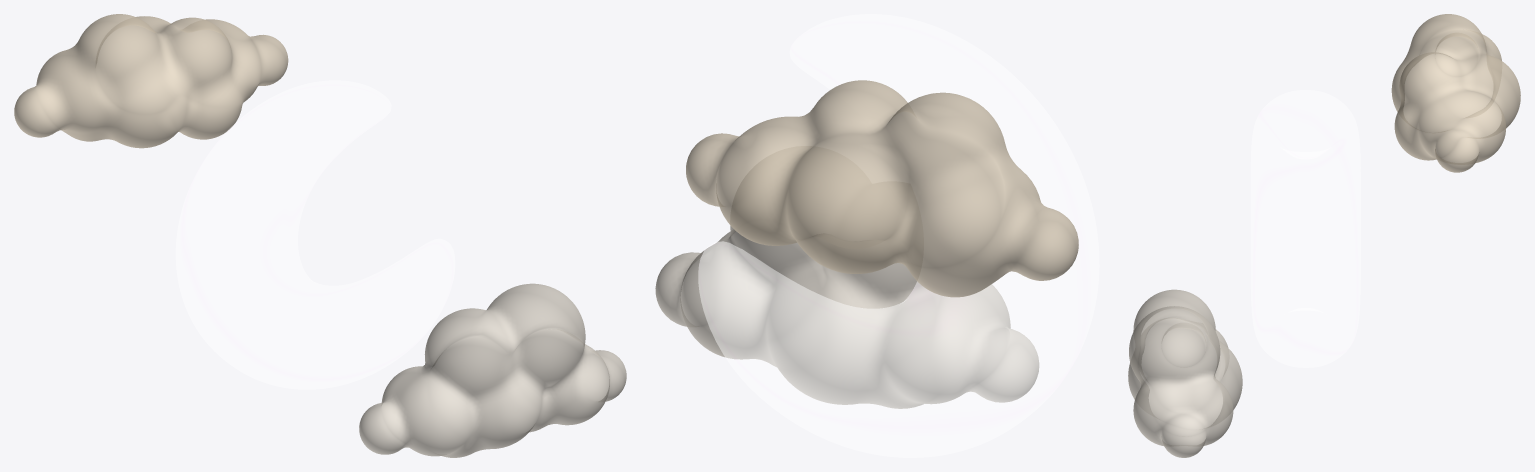
Rendered from moon.glb.
3 views of the same model, side by side, from view 1: azimuth 30°, elevation 25°; view 2: azimuth 150°, elevation 25°; view 3: azimuth 270°, elevation 25° (orthographic). The views are drawn at different scales.
Visible parts, largest first — view 1: Moon, cloud 2, cloud 1; view 2: Moon, cloud 1, cloud 2; view 3: Moon, cloud 1, cloud 2.
Boxes of the visible parts, box(x1,y1,x2,y2) form: Moon: box(176, 80, 454, 389); cloud 2: box(359, 283, 626, 457); cloud 1: box(14, 14, 288, 148); Moon: box(698, 14, 1099, 457); cloud 1: box(686, 80, 1078, 297); cloud 2: box(655, 225, 1039, 408); Moon: box(1251, 90, 1360, 367); cloud 1: box(1391, 14, 1520, 172); cloud 2: box(1128, 289, 1242, 457).
Size of the model in its own units: 269 by 212 by 238.
